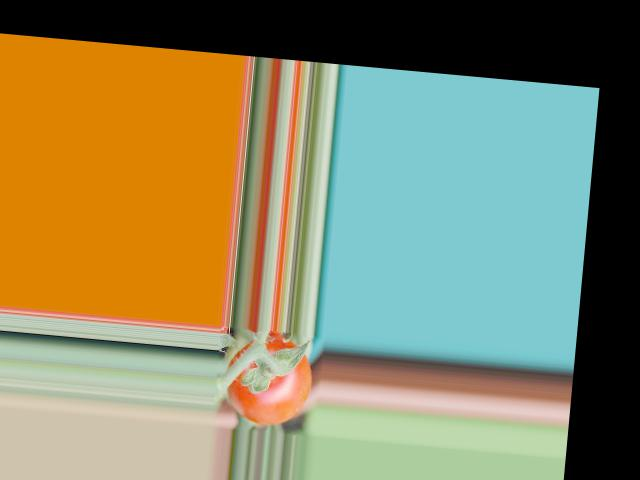tomato: (222, 328, 316, 428)
